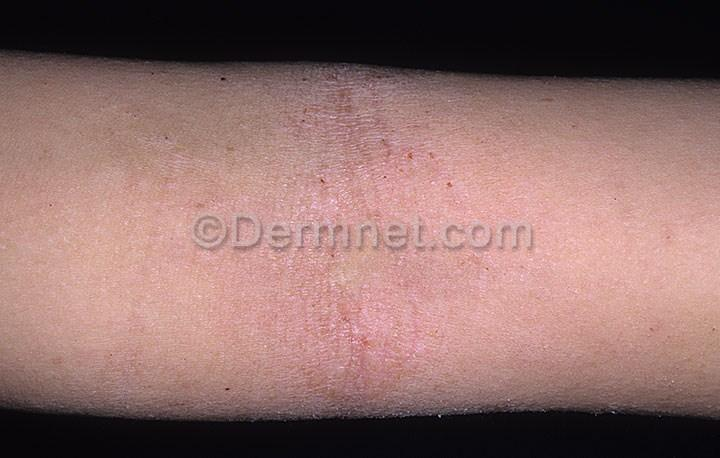xerosis 2: (0, 39, 719, 252), (0, 301, 719, 428)
